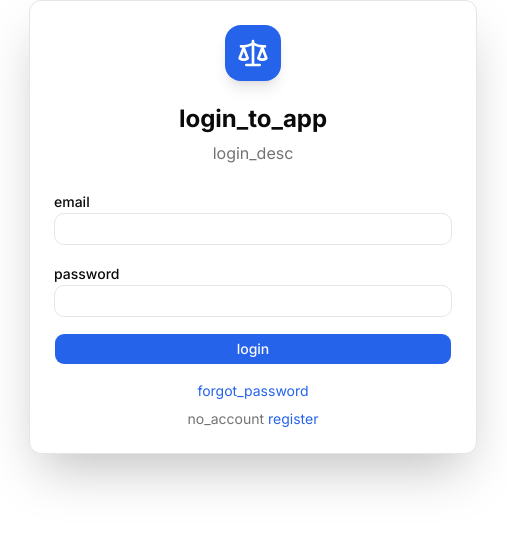
Test: LoginPage › shows error with invalid credentials
Type "wrong@test.com" into the field labelled "email" at (253, 229), box [54,213,452,245]
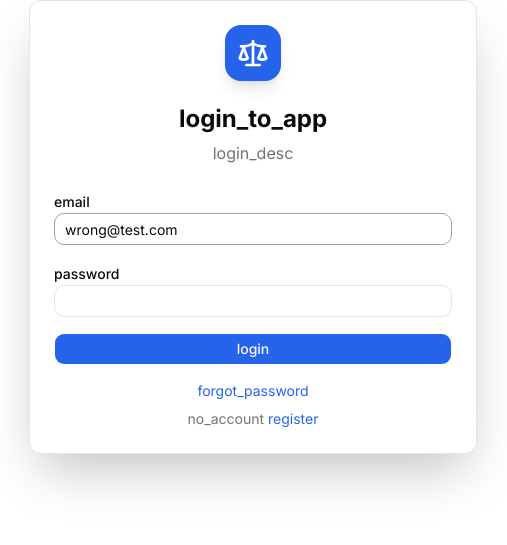
Type "wrong" into the password field labelled "password" at (253, 301), box [54,285,452,317]
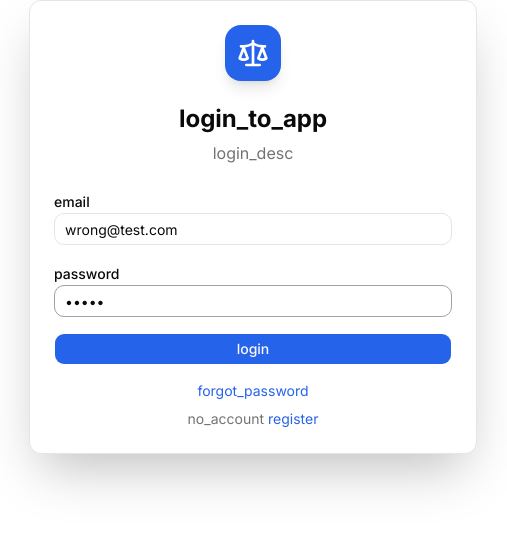
Click the button "login" at (253, 349), box [54,333,452,365]
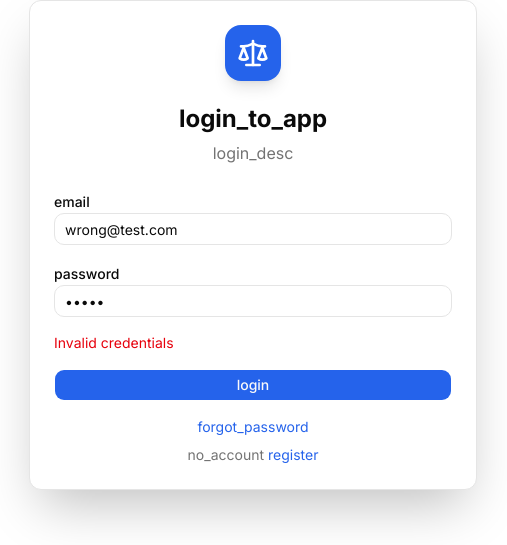
Check: the text "Invalid credentials" is shown, box [54,334,174,351]
